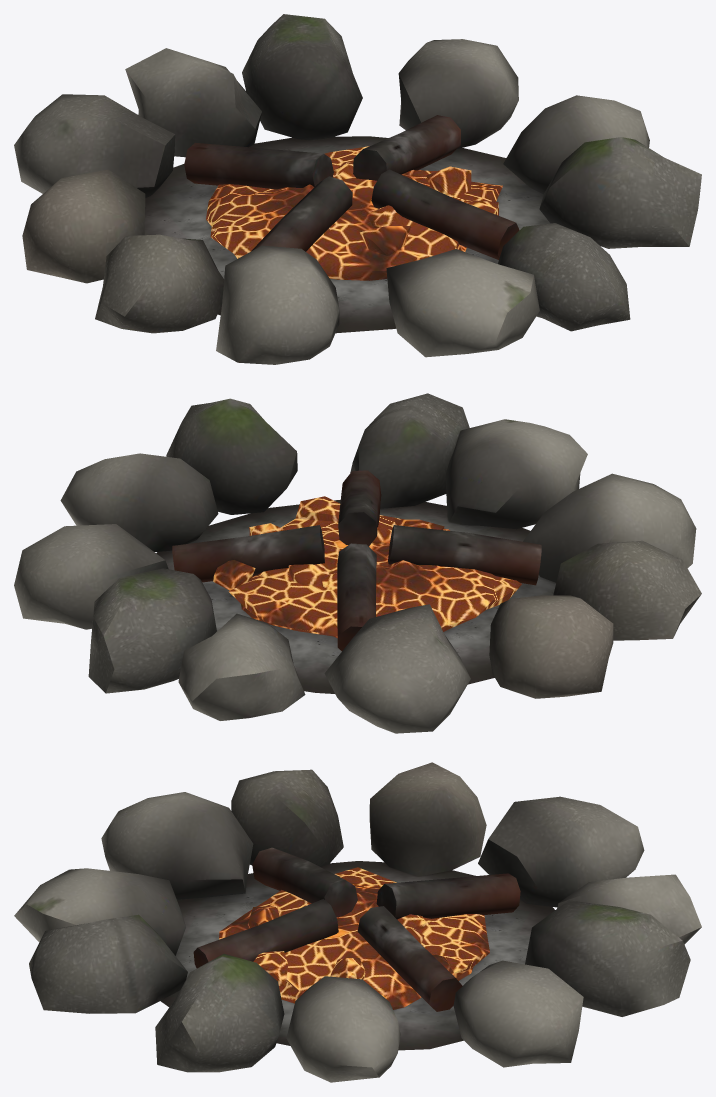
Rendered from fm_campfire_stage3_embers.glb.
3 renders of one model, top to bottom at view 1: azimuth 30°, elevation 25°; view 2: azimuth 150°, elevation 25°; view 3: azimuth 270°, elevation 25°, orthographic. The views are drawn at different scales.
Visible parts, largest first — view 1: fm_campfire_stage3_embers; view 2: fm_campfire_stage3_embers; view 3: fm_campfire_stage3_embers.
Part boxes in pixels (x1=…): fm_campfire_stage3_embers: x1=14, y1=14, x2=701, y2=364; fm_campfire_stage3_embers: x1=14, y1=393, x2=701, y2=733; fm_campfire_stage3_embers: x1=14, y1=762, x2=701, y2=1082.
Size of the model in its own units: 1.18 by 0.1959 by 1.25.
2 materials, 2 textured.
